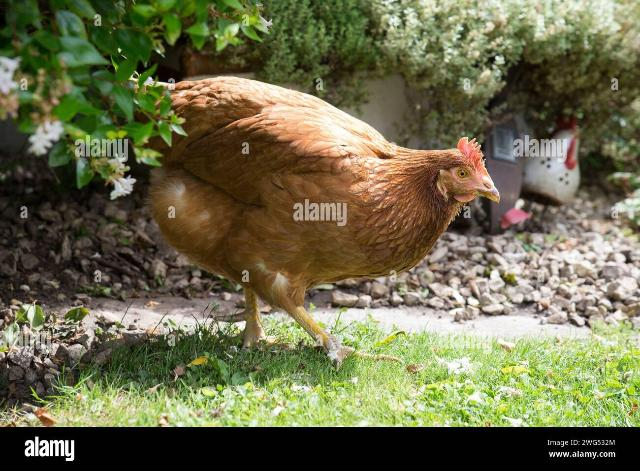Chicken: (128, 77, 500, 370)
